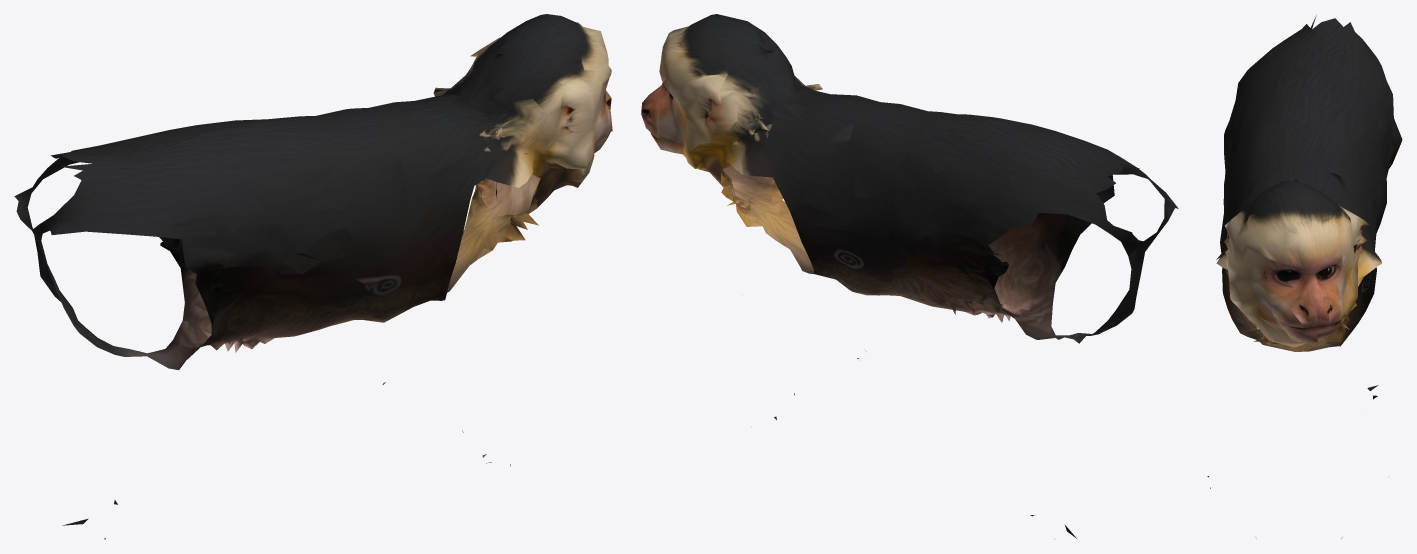
Rendered from cuerpoMono.obj.
3 renders of one model, left to right at view 1: azimuth 30°, elevation 25°; view 2: azimuth 150°, elevation 25°; view 3: azimuth 270°, elevation 25°, orthographic. The views are drawn at different scales.
Parts seen in each view (by area): view 1: cuerpoMono; view 2: cuerpoMono; view 3: cuerpoMono.
Part boxes in pixels (bbox=[...]): cuerpoMono: bbox=[14, 14, 612, 539]; cuerpoMono: bbox=[641, 14, 1178, 538]; cuerpoMono: bbox=[1207, 15, 1402, 538].
Bounding box in the file's own units: 0.7899 × 0.5897 × 0.2574.
1 material, 1 textured.
